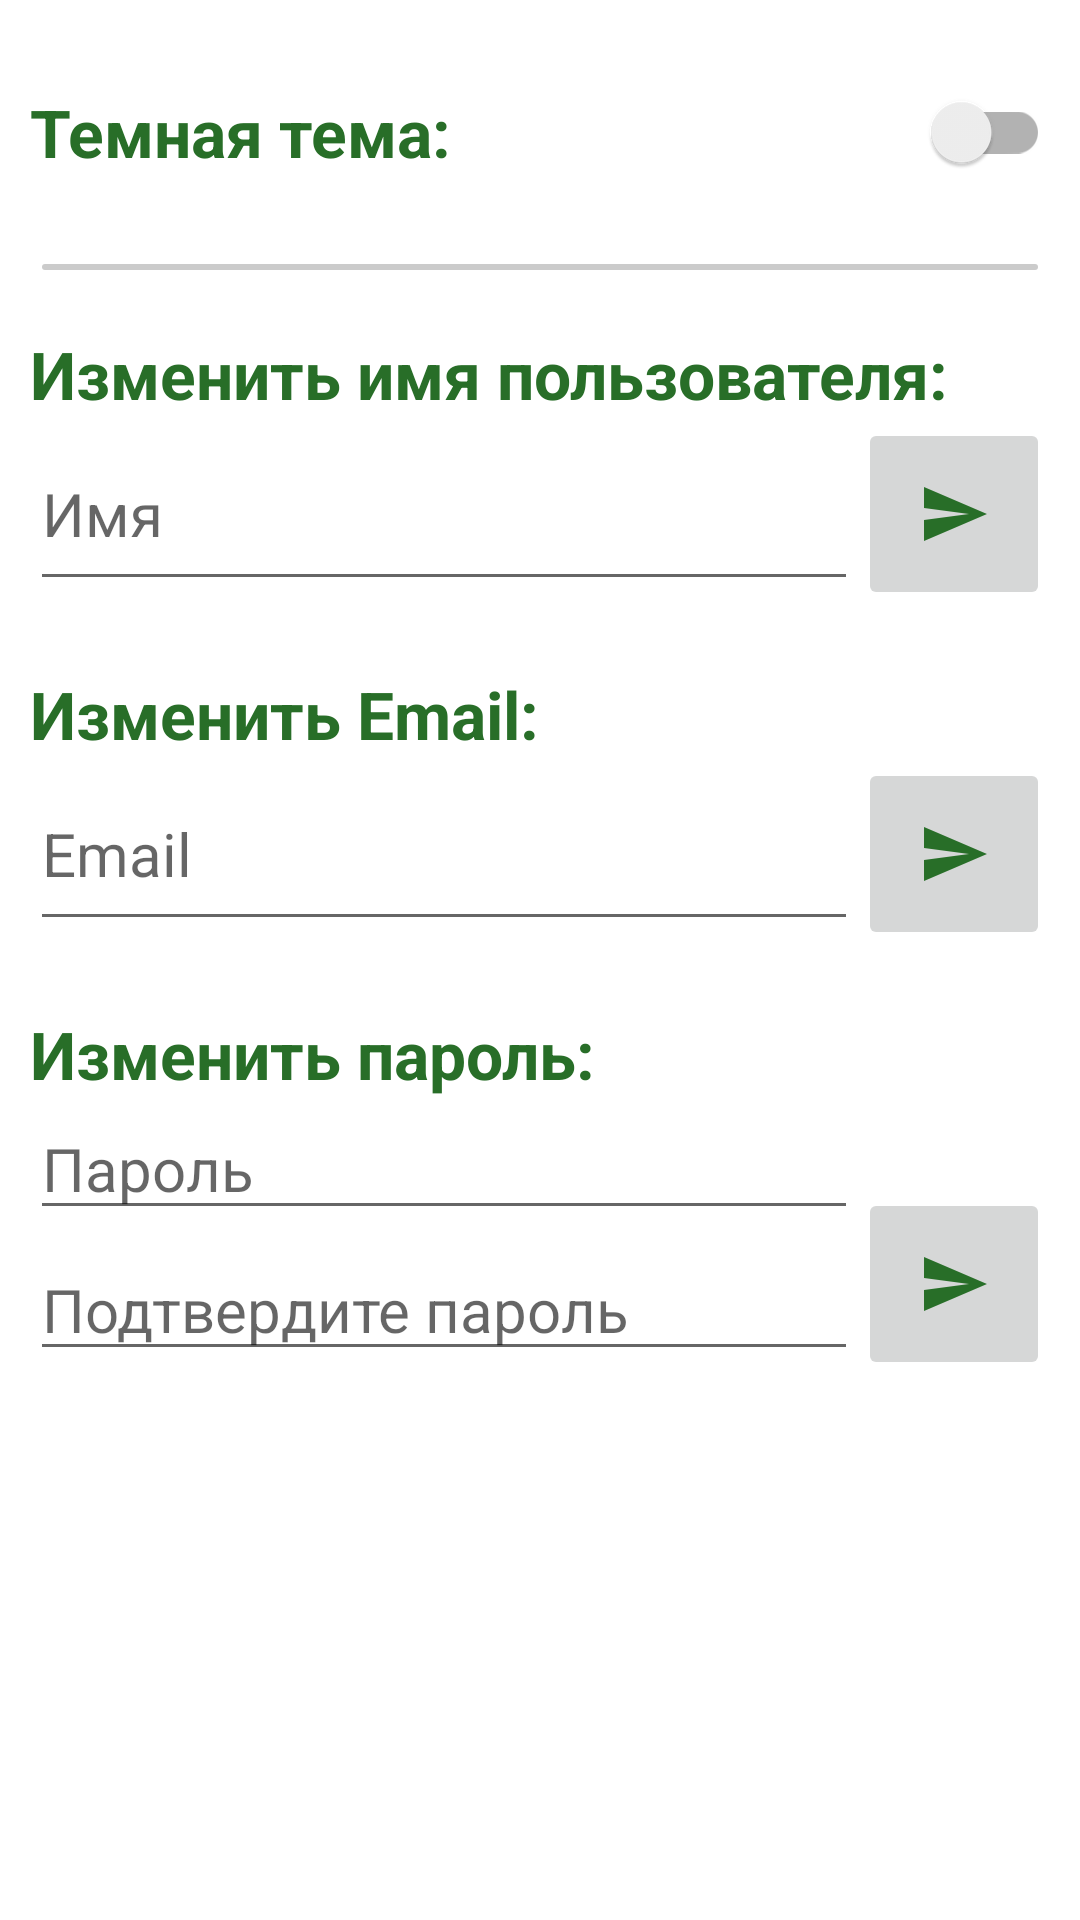

Point at icon controls on the screen. Image size 1080x1920, points as point (x, y).
Send: point (954, 514), point (954, 854), point (954, 1284)
